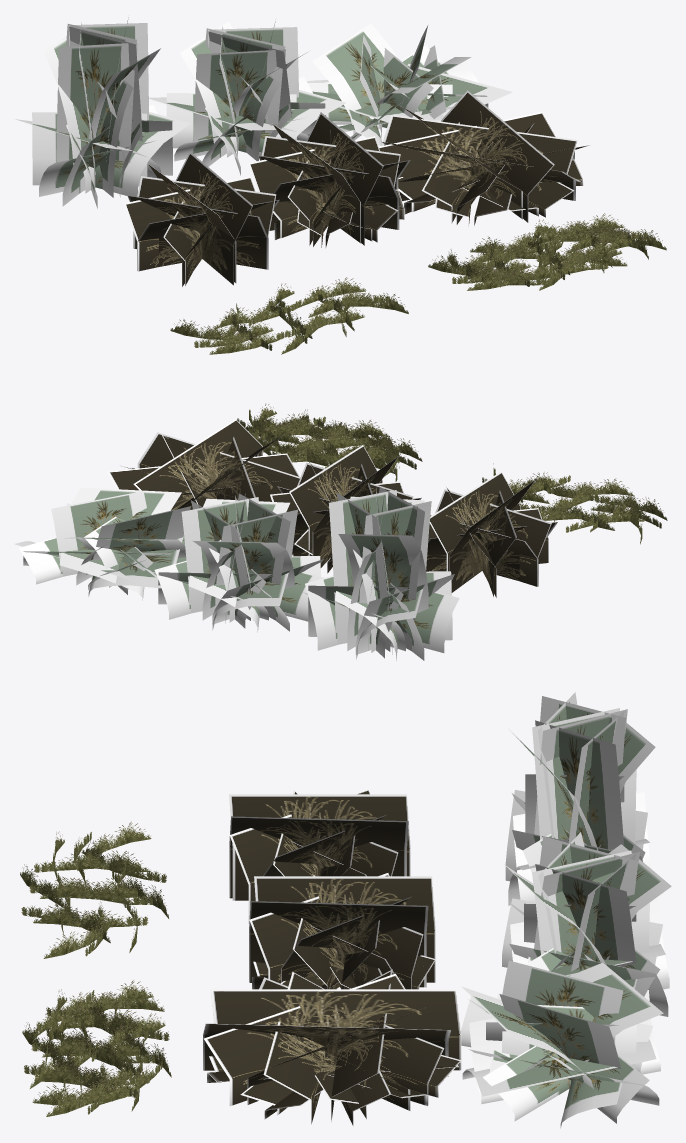
File: M_Plants.fbx
3 renders of one model, top to bottom at view 1: azimuth 30°, elevation 25°; view 2: azimuth 150°, elevation 25°; view 3: azimuth 270°, elevation 25°, orthographic. The views are drawn at different scales.
Parts seen in each view (by area): view 1: pPlane101, pPlane98, pPlane102, pPlane99, pPlane100, pPlane103, pPlane97, pPlane96; view 2: pPlane101, pPlane102, pPlane103, pPlane100, pPlane98, pPlane99, pPlane97, pPlane96; view 3: pPlane98, pPlane103, pPlane99, pPlane102, pPlane101, pPlane100, pPlane97, pPlane96.
Boxes of the visible parts, box(x1,y1,x2,y2) form: pPlane101: box(15, 17, 190, 208); pPlane98: box(379, 90, 590, 226); pPlane102: box(149, 21, 346, 175); pPlane99: box(248, 112, 410, 248); pPlane100: box(124, 152, 279, 286); pPlane103: box(307, 23, 512, 146); pPlane97: box(428, 213, 666, 290); pPlane96: box(170, 277, 408, 354); pPlane101: box(302, 487, 459, 660); pPlane102: box(151, 493, 324, 632); pPlane103: box(14, 487, 191, 600); pPlane100: box(426, 471, 557, 597); pPlane98: box(107, 419, 300, 510); pPlane99: box(270, 445, 421, 573); pPlane97: box(237, 403, 422, 481); pPlane96: box(482, 463, 667, 544); pPlane98: box(202, 969, 461, 1125); pPlane103: box(461, 960, 663, 1128); pPlane99: box(248, 873, 436, 989); pPlane102: box(502, 832, 671, 1016); pPlane101: box(505, 692, 655, 905); pPlane100: box(229, 788, 410, 923); pPlane97: box(22, 980, 171, 1116); pPlane96: box(20, 821, 168, 958).
Bounding box in the file's own units: 403 × 118 × 380.
Materials: 3 (3 with a texture image).
